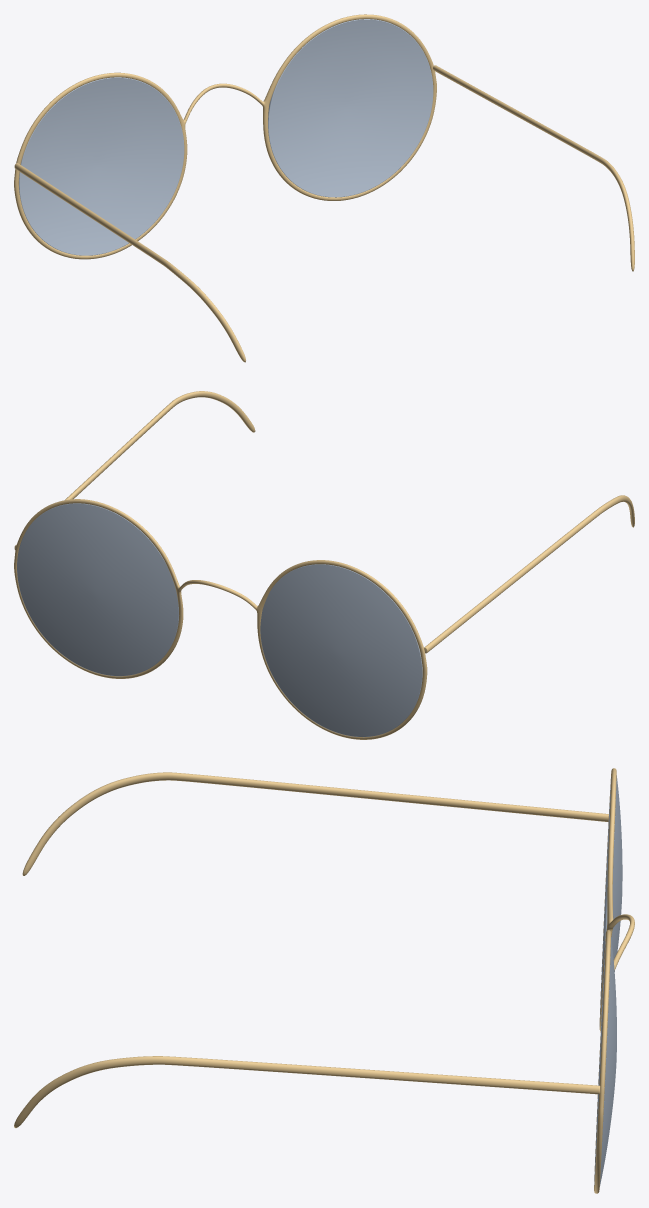
The model's file is kacamata_kotak2.fbx.
The picture shows the model from 3 angles, top to bottom: view 1: azimuth 30°, elevation 25°; view 2: azimuth 150°, elevation 25°; view 3: azimuth 270°, elevation 25°; orthographic projection. The views are drawn at different scales.
Parts seen in each view (by area): view 1: glasses frame; view 2: glasses frame; view 3: glasses frame.
Part boxes in pixels (x1,y1,x2,y2): glasses frame: (14,14,634,362); glasses frame: (14,391,634,739); glasses frame: (14,768,634,1193).
Bounding box in the file's own units: 16.26 × 6.36 × 14.94.
